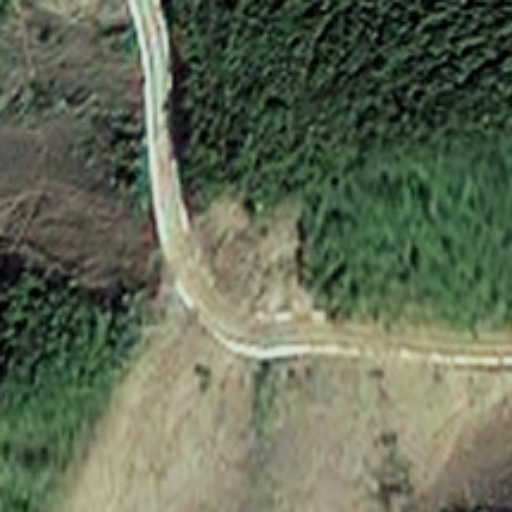landslide: (199, 193, 306, 313)
